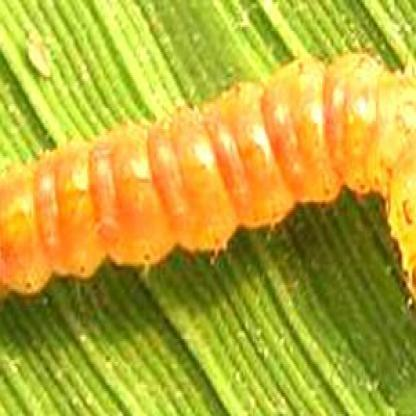leaf-folder: (0, 45, 412, 345)
